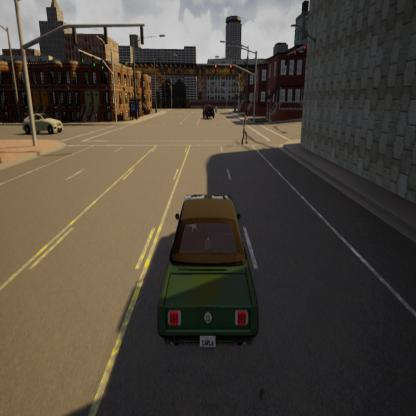Cars: (156, 192, 260, 349), (21, 110, 65, 138), (201, 99, 216, 120)
Pedestrian: (241, 112, 249, 148)
